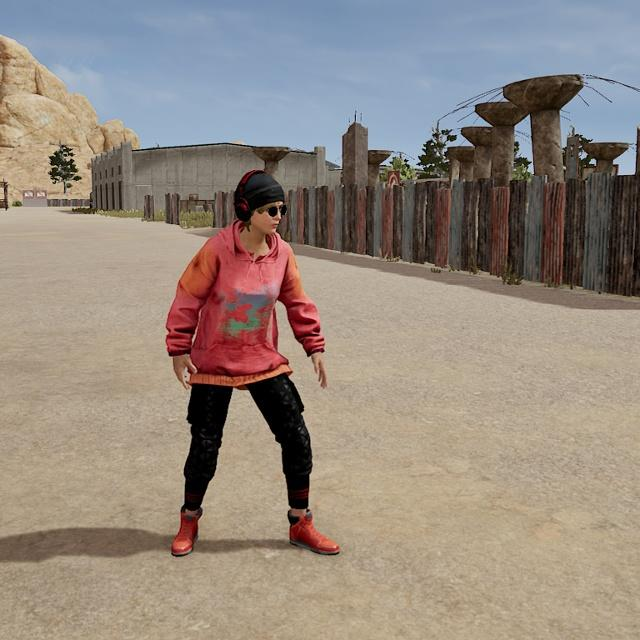head: (230, 167, 289, 237)
people: (162, 166, 346, 559)
